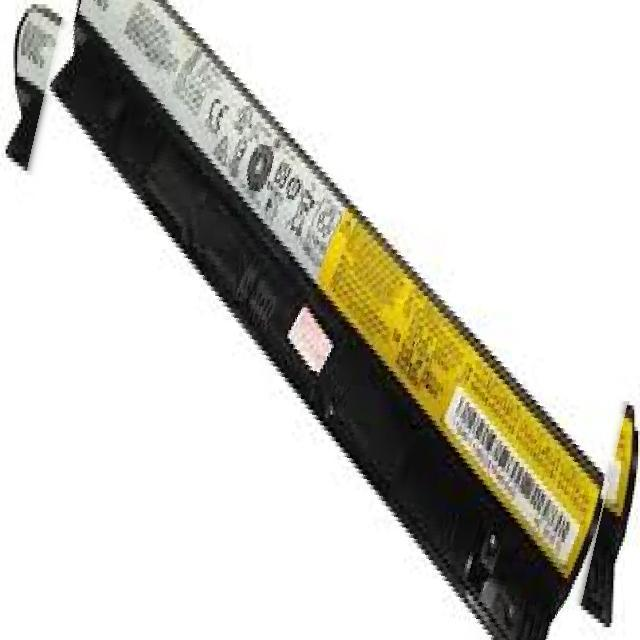Battery: (52, 0, 609, 639)
